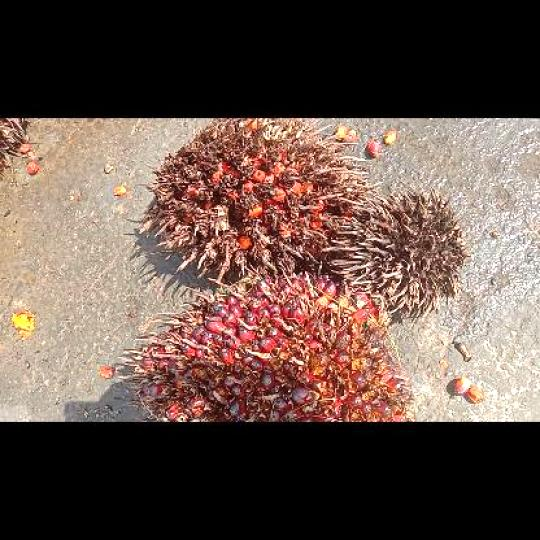masak: (122, 265, 413, 420)
terlalu masak: (139, 118, 372, 284)
